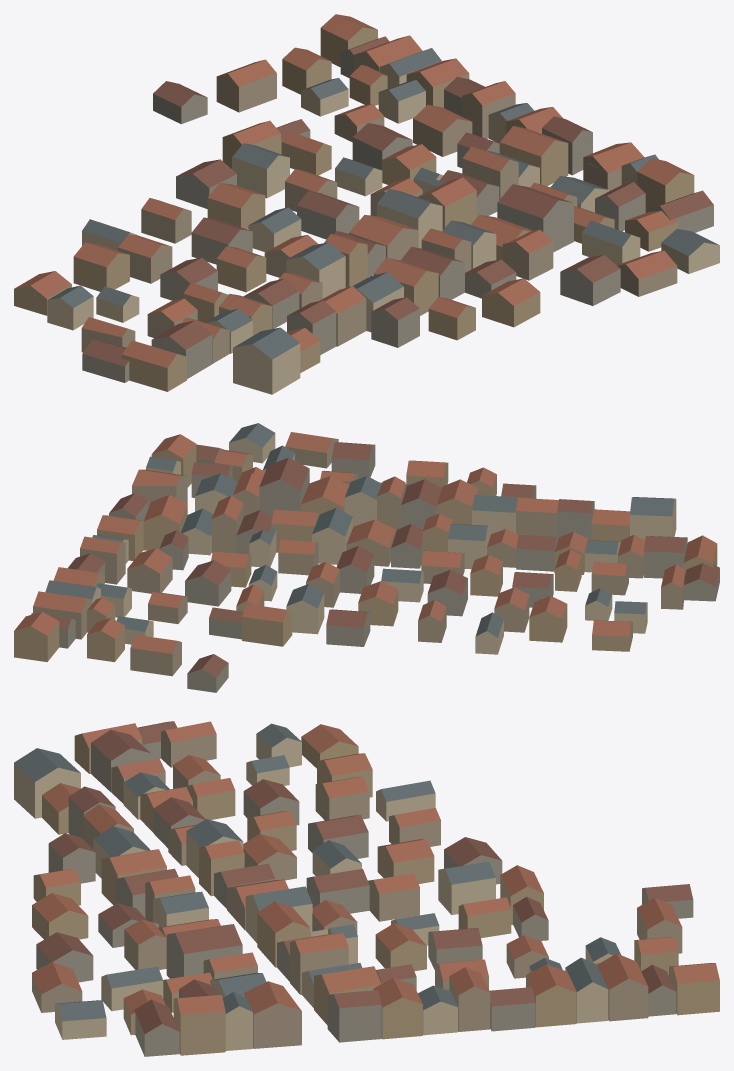
3 renders of one model, top to bottom at view 1: azimuth 30°, elevation 25°; view 2: azimuth 150°, elevation 25°; view 3: azimuth 270°, elevation 25°, orthographic. The views are drawn at different scales.
Parts seen in each view (by area): view 1: C_-1_-2; view 2: C_-1_-2; view 3: C_-1_-2.
Boxes of the visible parts, x1,y1,x2,y2 form: C_-1_-2: [14, 14, 719, 394]; C_-1_-2: [14, 423, 719, 692]; C_-1_-2: [14, 721, 719, 1056].
Size of the model in its own units: 191 by 14.51 by 179.
